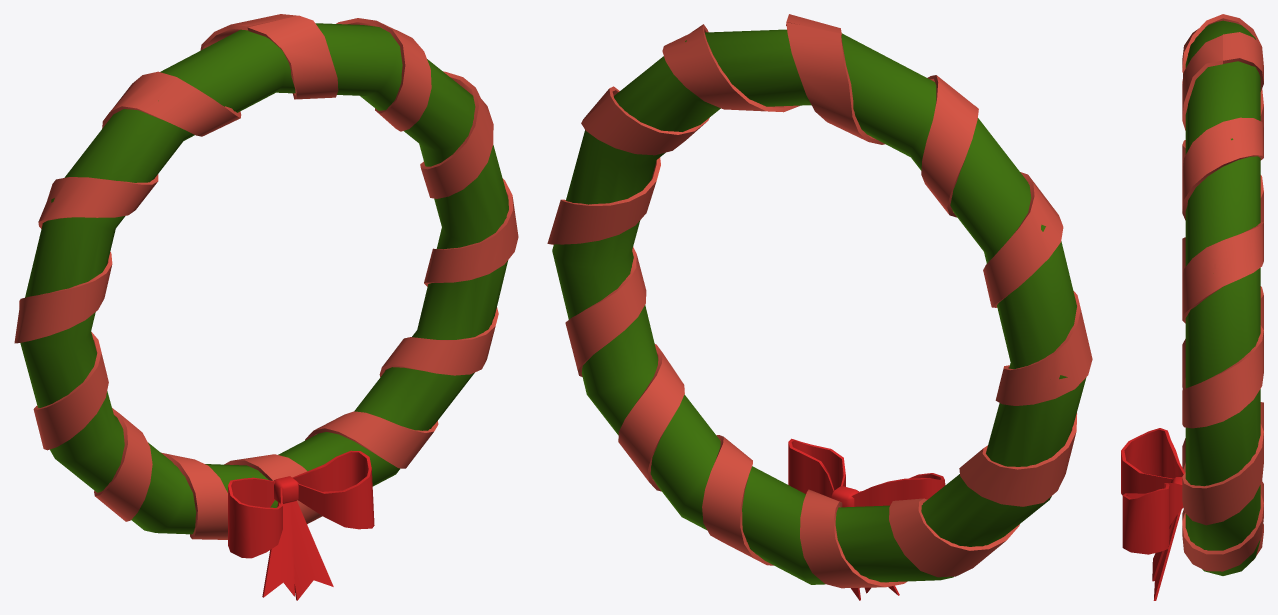
Rendered from Christmas_wreath_4.glb.
3 views of the same model, side by side, from view 1: azimuth 30°, elevation 25°; view 2: azimuth 150°, elevation 25°; view 3: azimuth 270°, elevation 25° (orthographic). The views are drawn at different scales.
Visible parts, largest first — view 1: Christmas_wreath_4; view 2: Christmas_wreath_4; view 3: Christmas_wreath_4.
Part boxes in pixels (x1,y1,x2,y2): Christmas_wreath_4: (14, 14, 518, 600); Christmas_wreath_4: (547, 14, 1092, 600); Christmas_wreath_4: (1121, 14, 1263, 600).
Bounding box in the file's own units: 1.06 × 1.13 × 0.2668.
1 material, 1 textured.
